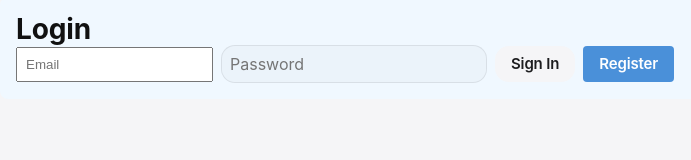
Test: AuthBar › shows "account created" message when registration succeeds but auto-login fails
Type "new@x.com" into the field with placeholder "Email" at (114, 64), box [16,47,213,82]
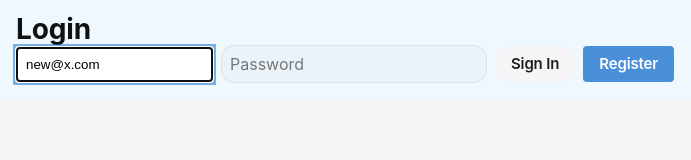
Type "correct-horse" into the password field with placeholder "Password" at (354, 64), box [221,45,487,83]
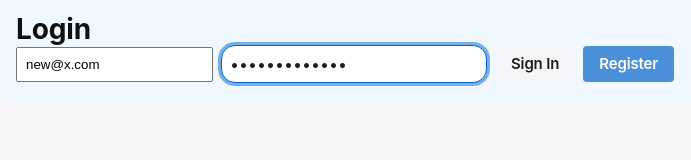
Click the button "Register" at (629, 64), box [583,46,674,82]
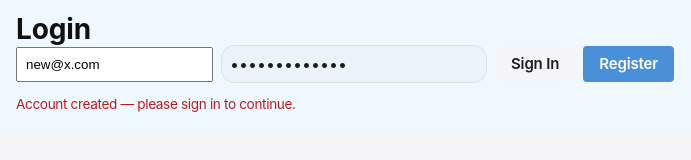
Expected: the message shows "Account created", [16,96,296,112]
